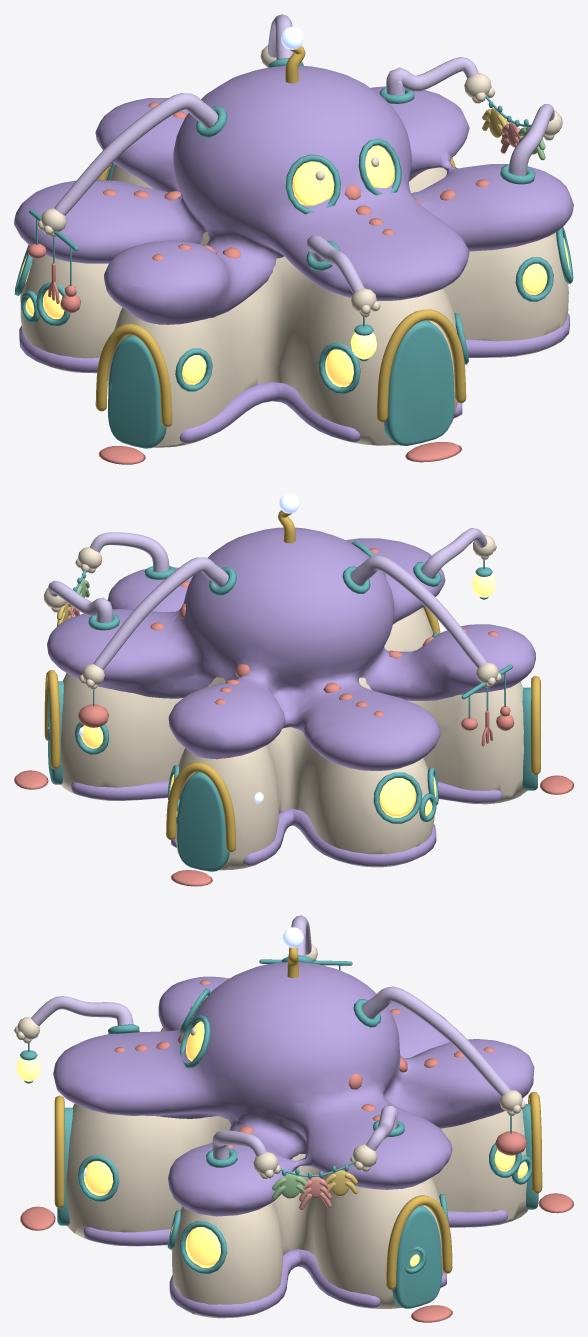
The model's file is house_06_0609.fbx.
3 views of the same model, one above another, from view 1: azimuth 30°, elevation 25°; view 2: azimuth 150°, elevation 25°; view 3: azimuth 270°, elevation 25° (orthographic). The views are drawn at different scales.
Parts seen in each view (by area): view 1: Tawan_RoofMantle, Tawan_Body, Tawan_Door_Main, Tawan_WindowRims, Tawan_BaseCushion, Tawan_Windows, Tawan_Door_FrontLeft, Tawan_Arm_ToolsL, Tawan_DoorRim_Main, Tawan_DoorRim_FrontLeft, Tawan_ArmHands, Tawan_Arm_ClothesB (+8 smaller); view 2: Tawan_RoofMantle, Tawan_Body, Tawan_BaseCushion, Tawan_Door_Back, Tawan_Arm_ToolsL, Tawan_Arm_ToolsBack, Tawan_WindowRims, Tawan_ArmHands, Tawan_DoorRim_Back, Tawan_Windows, Tawan_Arm_ClothesA, Tawan_Tools (+10 smaller); view 3: Tawan_RoofMantle, Tawan_Body, Tawan_BaseCushion, Tawan_WindowRims, Tawan_Door_BackRight, Tawan_Windows, Tawan_Arm_ToolsBack, Tawan_ArmHands, Tawan_DoorRim_BackRight, Tawan_Arm_Lantern, Tawan_DoorRim_Main, Tawan_RoofDots (+12 smaller).
Part boxes in pixels (left/top/right/bottom): Tawan_RoofMantle: left=14, top=65, right=573, bottom=324; Tawan_Body: left=20, top=164, right=568, bottom=447; Tawan_Door_Main: left=384, top=320, right=454, bottom=445; Tawan_WindowRims: left=14, top=138, right=573, bottom=393; Tawan_BaseCushion: left=19, top=313, right=569, bottom=443; Tawan_Windows: left=20, top=145, right=569, bottom=387; Tawan_Door_FrontLeft: left=108, top=335, right=166, bottom=448; Tawan_Arm_ToolsL: left=54, top=93, right=218, bottom=215; Tawan_DoorRim_Main: left=377, top=309, right=466, bottom=422; Tawan_DoorRim_FrontLeft: left=95, top=324, right=172, bottom=427; Tawan_ArmHands: left=37, top=45, right=562, bottom=317; Tawan_Arm_ClothesB: left=386, top=57, right=478, bottom=95; Tawan_RoofMantle: left=47, top=527, right=535, bottom=770; Tawan_Body: left=61, top=607, right=526, bottom=870; Tawan_BaseCushion: left=71, top=780, right=502, bottom=866; Tawan_Door_Back: left=177, top=772, right=229, bottom=871; Tawan_Arm_ToolsL: left=350, top=555, right=487, bottom=668; Tawan_Arm_ToolsBack: left=93, top=557, right=228, bottom=669; Tawan_WindowRims: left=47, top=541, right=438, bottom=824; Tawan_ArmHands: left=43, top=534, right=501, bottom=689; Tawan_DoorRim_Back: left=166, top=762, right=235, bottom=852; Tawan_Windows: left=48, top=725, right=436, bottom=817; Tawan_Arm_ClothesA: left=90, top=532, right=169, bottom=571; Tawan_Tools: left=78, top=704, right=514, bottom=746; Tawan_RoofMantle: left=53, top=962, right=534, bottom=1216; Tawan_Body: left=66, top=1103, right=527, bottom=1318; Tawan_BaseCushion: left=83, top=1210, right=507, bottom=1317; Tawan_WindowRims: left=77, top=988, right=531, bottom=1274; Tawan_Door_BackRight: left=392, top=1205, right=441, bottom=1308; Tawan_Windows: left=83, top=995, right=527, bottom=1267; Tawan_Arm_ToolsBack: left=362, top=986, right=510, bottom=1096; Tawan_ArmHands: left=14, top=943, right=525, bottom=1178; Tawan_DoorRim_BackRight: left=386, top=1195, right=452, bottom=1290; Tawan_Arm_Lantern: left=31, top=996, right=133, bottom=1025; Tawan_DoorRim_Main: left=54, top=1095, right=64, bottom=1208; Tawan_RoofDots: left=114, top=980, right=494, bottom=1148.
Size of the model in its own units: 6.61 by 3.98 by 6.95.
